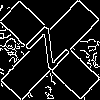Z: (25, 25, 79, 79)
